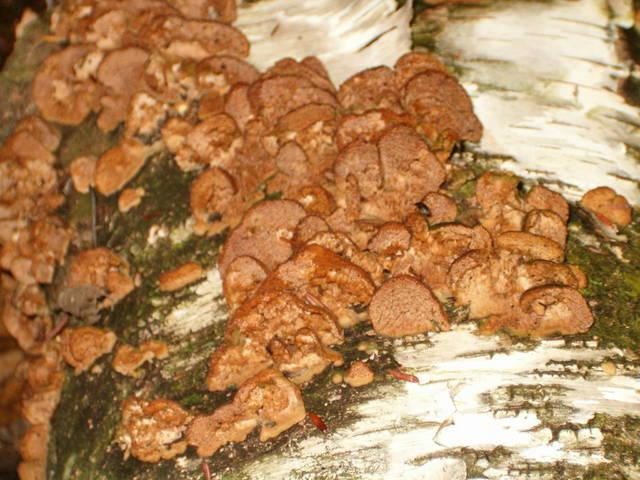poisonous_mushroom: (0, 0, 632, 479)
